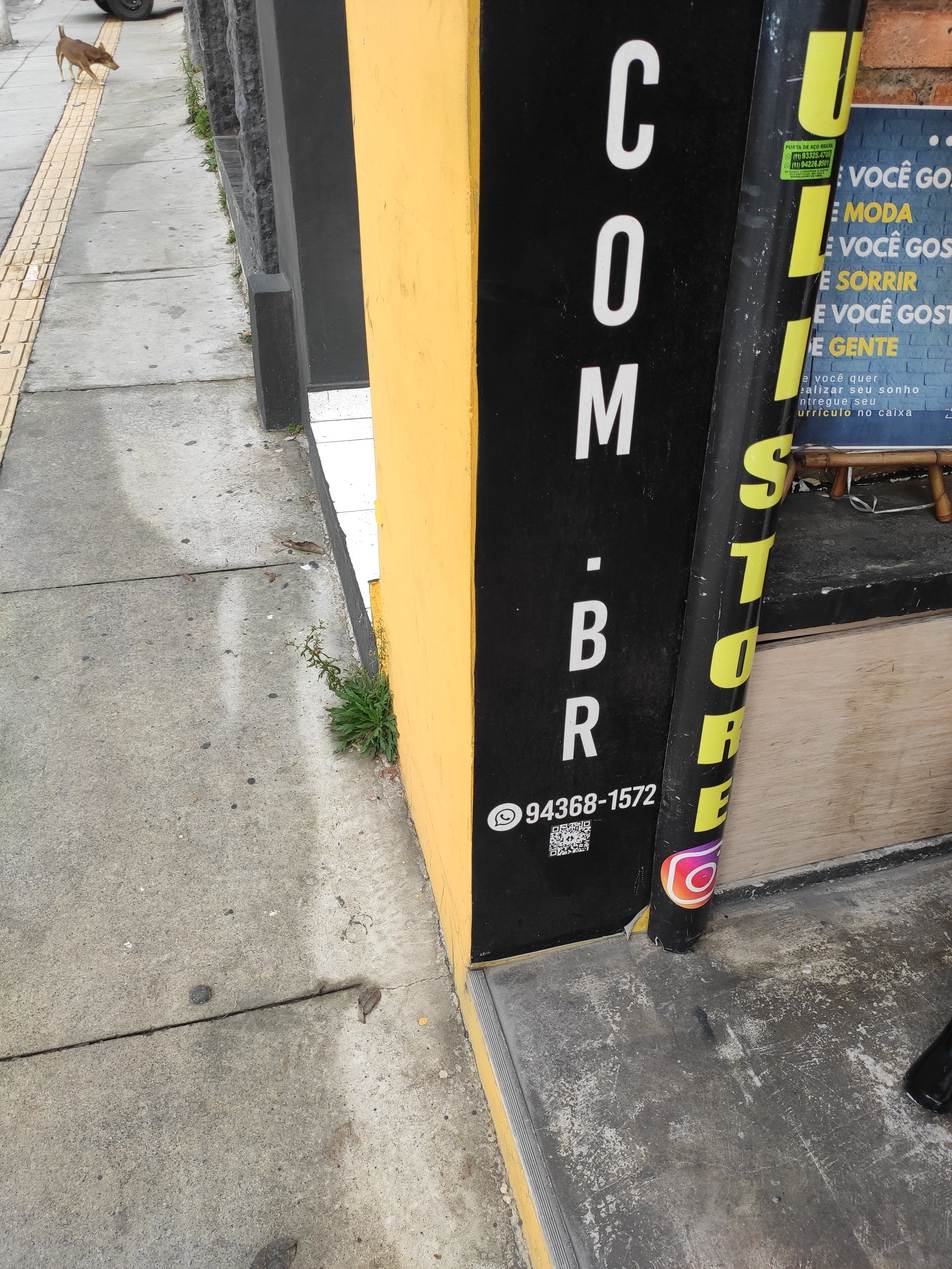QR-CODE: (549, 820, 591, 857)
